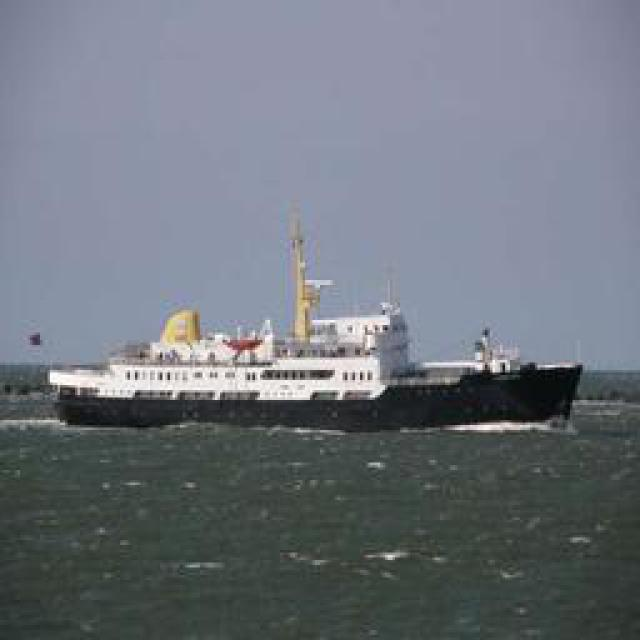Ship: (43, 221, 581, 429)
